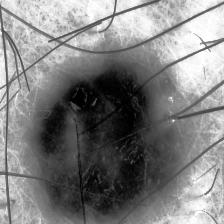Benign Marking or Mole: (30, 68, 192, 216)
